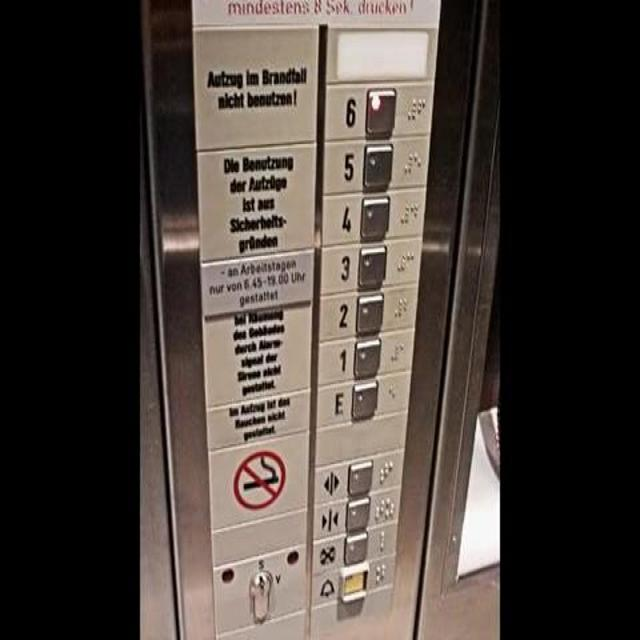1: (332, 327, 395, 382)
2: (333, 284, 396, 340)
3: (334, 235, 396, 293)
4: (334, 187, 396, 245)
5: (334, 133, 395, 195)
6: (334, 81, 400, 143)
E: (332, 372, 395, 428)
alarm: (318, 561, 379, 607)
close: (318, 495, 379, 540)
empty: (335, 29, 426, 79)
fan: (317, 528, 378, 573)
keyhole: (240, 556, 281, 624)
open: (319, 451, 382, 506)
